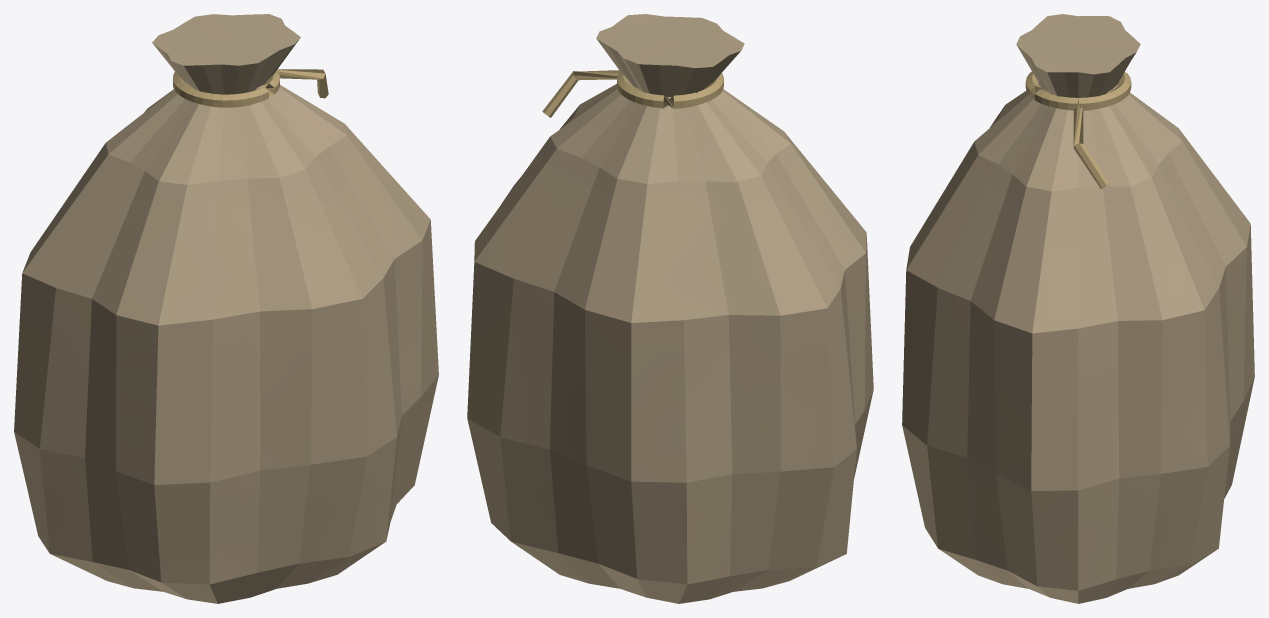
File: PR_RiceSack.glb
3 renders of one model, left to right at view 1: azimuth 30°, elevation 25°; view 2: azimuth 150°, elevation 25°; view 3: azimuth 270°, elevation 25°, orthographic.
Visible parts, largest first — view 1: PR_RiceSack; view 2: PR_RiceSack; view 3: PR_RiceSack.
Boxes of the visible parts, x1,y1,x2,y2 form: PR_RiceSack: (14, 14, 438, 603); PR_RiceSack: (467, 14, 873, 603); PR_RiceSack: (902, 14, 1254, 603).
Bounding box in the file's own units: 0.4775 × 0.62 × 0.3944.
Materials: 2 (1 with a texture image).
